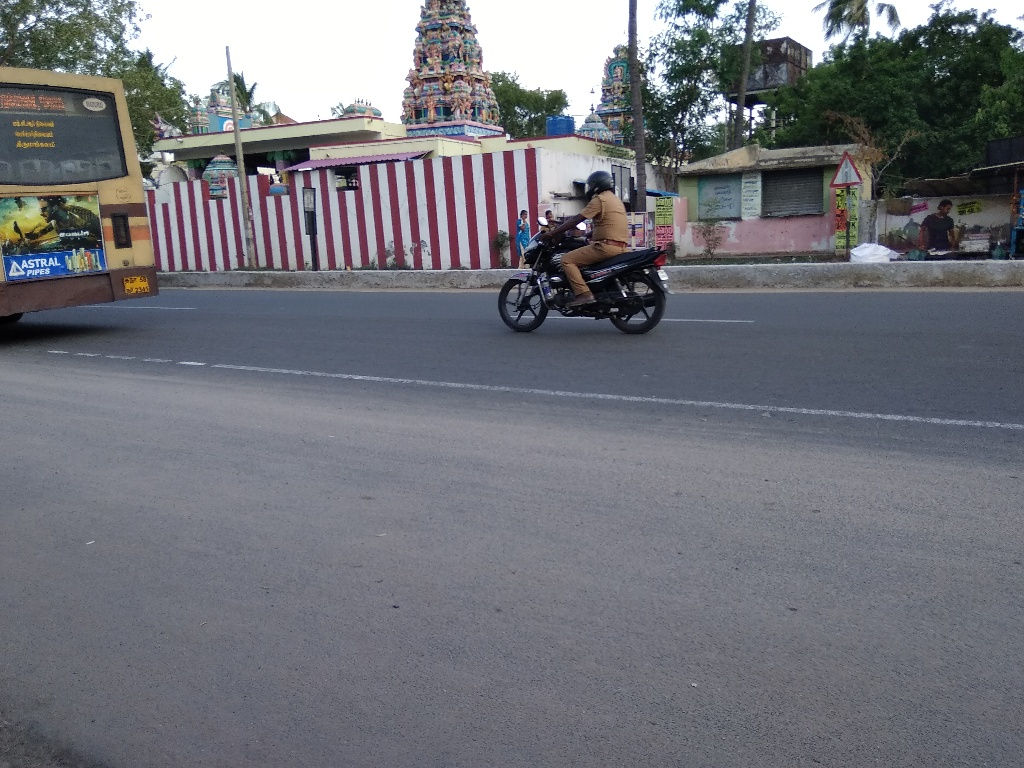biker: (484, 134, 686, 349)
helmet: (577, 166, 630, 210)
